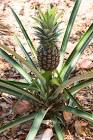Pineapple: (33, 8, 63, 71)
